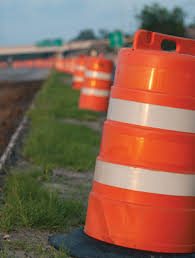barrel: (83, 30, 195, 253), (82, 55, 112, 111), (72, 58, 87, 89)
